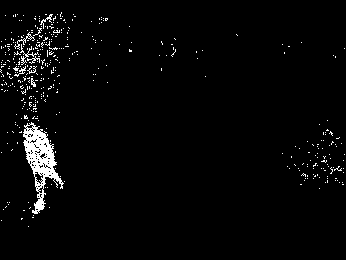person: (22, 120, 66, 216)
